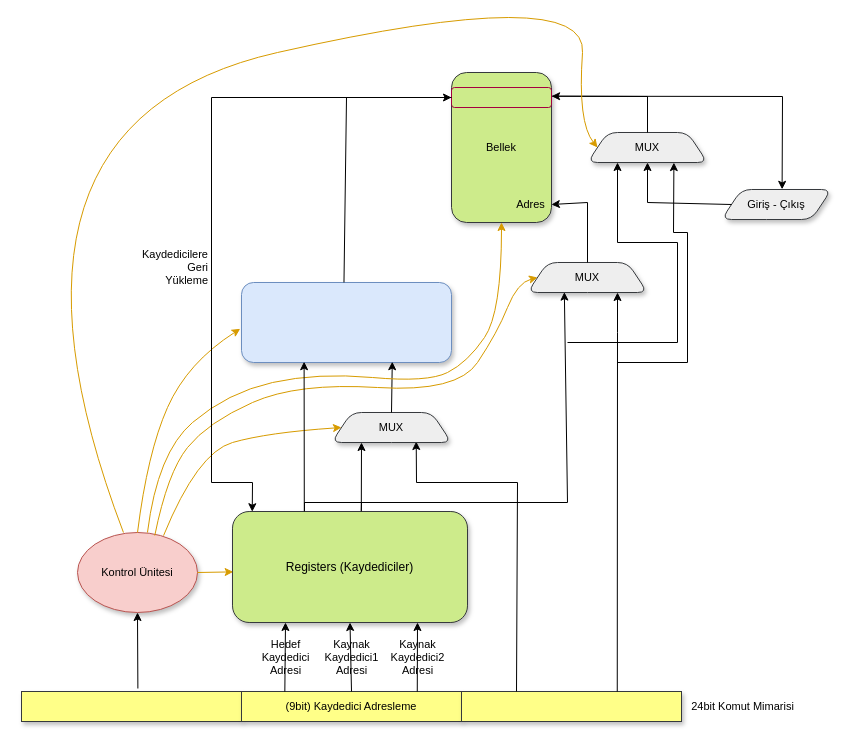
This 855x746 diagram has some shape labels left out. Here are the shapes that lost their labels. From the top down, the centre of each, then its label:
At (501,97): "Veri".
At (347,324): "ALU (Aritmatik Mantık Brimi)".
At (132,707): "(7bit) Komut Bilgisi".
At (572,707): "(8bit) Anlık Değer - Komut Verisi".
